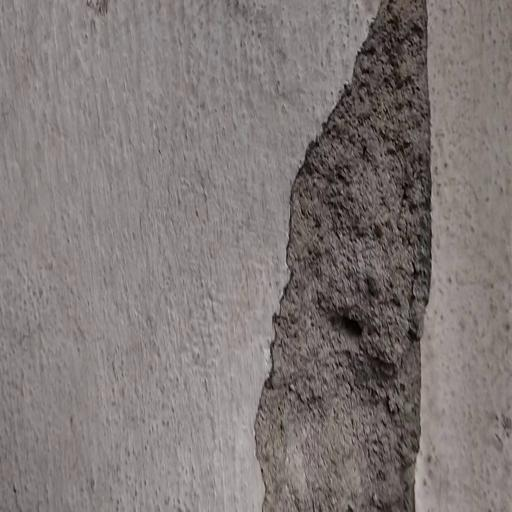spalling: (241, 0, 429, 512)
